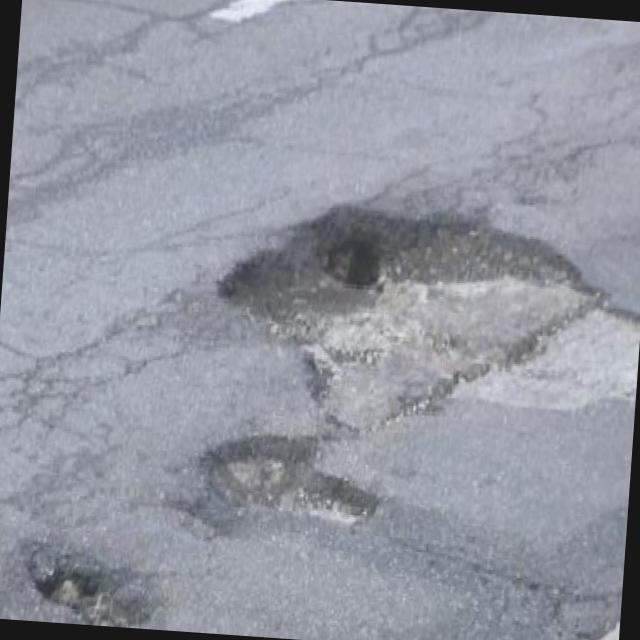Lubang: (218, 205, 601, 428), (201, 434, 379, 523), (29, 547, 162, 626)
